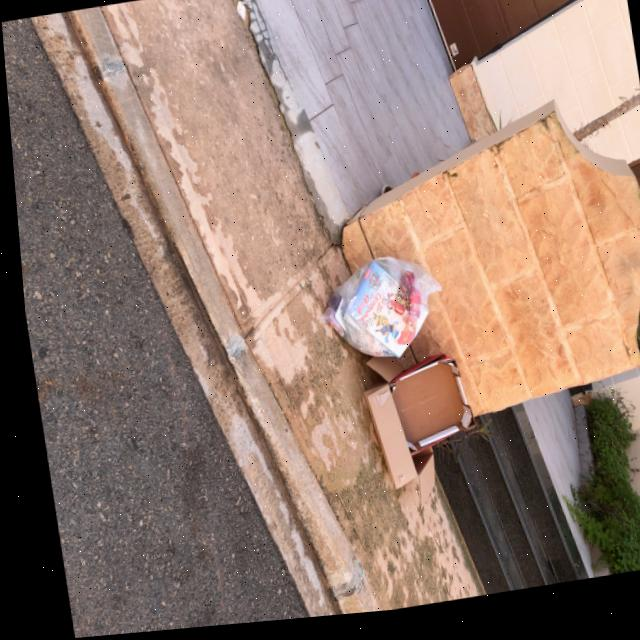Organic Waste -White Bag-: (307, 257, 445, 376)
Other: (351, 357, 432, 524), (378, 360, 471, 465)
